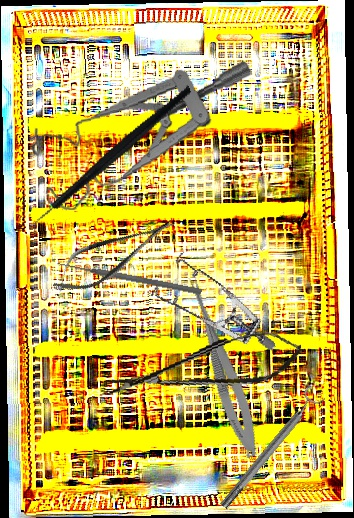Chopper: (3, 84, 221, 241)
Fixation Ring: (213, 384, 327, 514)
Micro Scissor: (176, 273, 267, 461), (102, 326, 306, 407), (43, 204, 185, 305)
Pusher: (55, 258, 203, 297)
Speculum: (24, 59, 265, 214), (140, 233, 277, 386)
